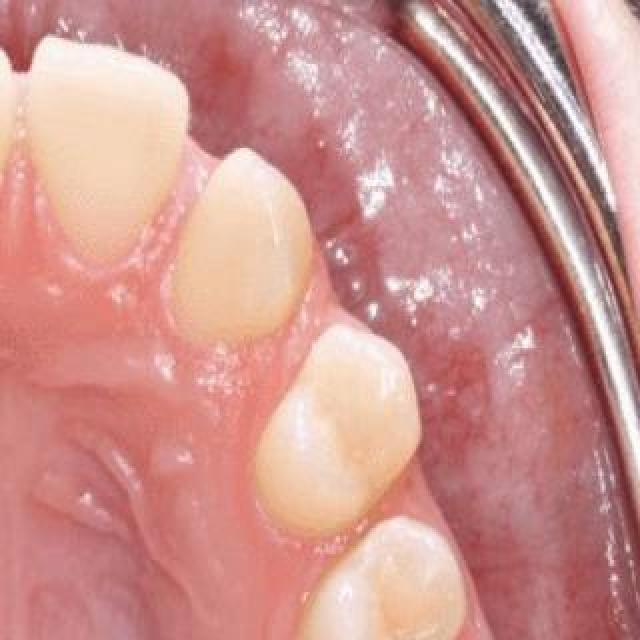spacing: (140, 86, 256, 238), (255, 266, 367, 374), (0, 38, 48, 128), (305, 471, 311, 493)
